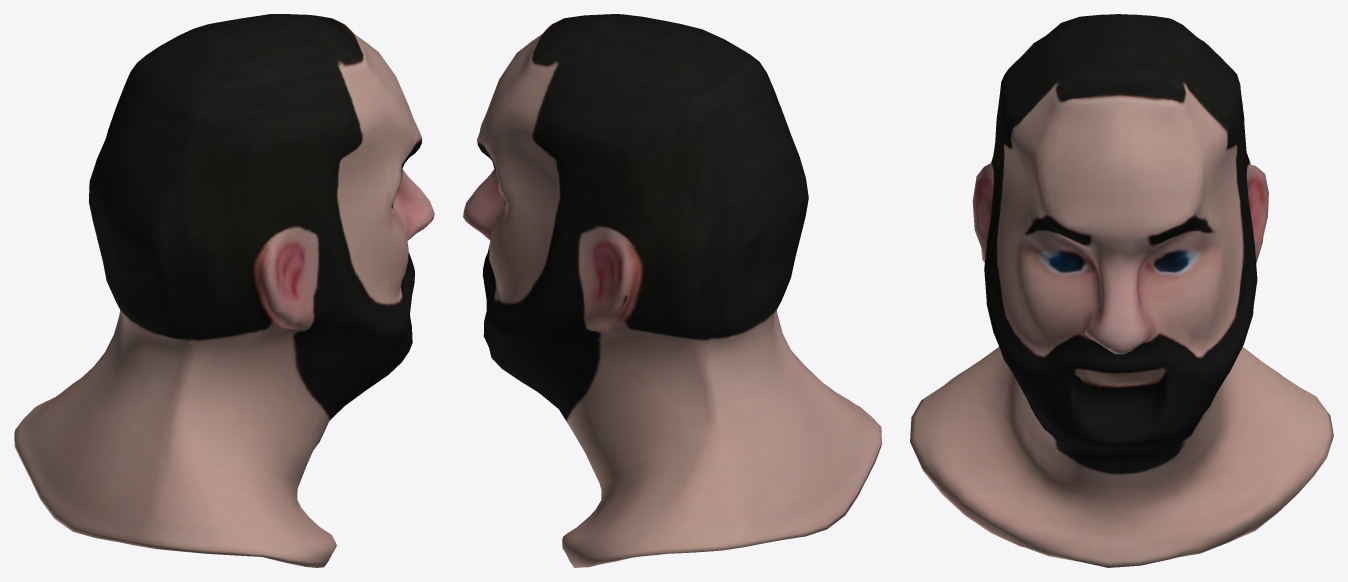
The model's file is ad75acc9bceb_tom_segura__head__l.fbx.
3 views of the same model, side by side, from view 1: azimuth 30°, elevation 25°; view 2: azimuth 150°, elevation 25°; view 3: azimuth 270°, elevation 25° (orthographic).
Parts seen in each view (by area): view 1: mesh; view 2: mesh; view 3: mesh.
Boxes of the visible parts, <box> form: mesh: <box>14,14,434,567</box>; mesh: <box>463,14,881,567</box>; mesh: <box>910,14,1333,567</box>.
Bounding box in the file's own units: 75.45 × 99.27 × 74.43.
